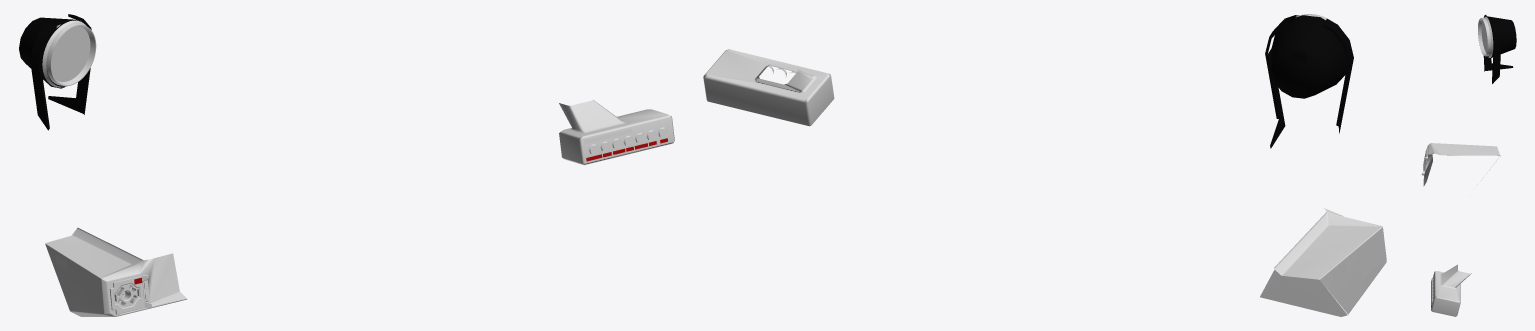
Rendered from doc_arcadia__int01_pod_tacho-plus-extras.glb.
3 renders of one model, left to right at view 1: azimuth 30°, elevation 25°; view 2: azimuth 150°, elevation 25°; view 3: azimuth 270°, elevation 25°, orthographic. The views are drawn at different scales.
Visible parts, largest first — view 1: submesh_00_LOD_1.034, submesh_04_LOD_1.019, submesh_01_LOD_1.030, submesh_02_LOD_1.028; view 2: submesh_00_LOD_1.034, submesh_02_LOD_1.028; view 3: submesh_00_LOD_1.034, submesh_01_LOD_1.030, submesh_04_LOD_1.019.
Boxes of the visible parts, x1=… form: submesh_00_LOD_1.034: x1=19, y1=14, x2=674, y2=316; submesh_04_LOD_1.019: x1=51, y1=26, x2=90, y2=81; submesh_01_LOD_1.030: x1=55, y1=26, x2=668, y2=310; submesh_02_LOD_1.028: x1=81, y1=269, x2=100, y2=308; submesh_00_LOD_1.034: x1=703, y1=14, x2=1386, y2=316; submesh_02_LOD_1.028: x1=1360, y1=231, x2=1383, y2=278; submesh_00_LOD_1.034: x1=1421, y1=15, x2=1516, y2=316; submesh_01_LOD_1.030: x1=1424, y1=19, x2=1486, y2=303; submesh_04_LOD_1.019: x1=1481, y1=21, x2=1487, y2=52.
Size of what is drawn, in the model's own units: 0.9353 by 0.4181 by 0.2412.
